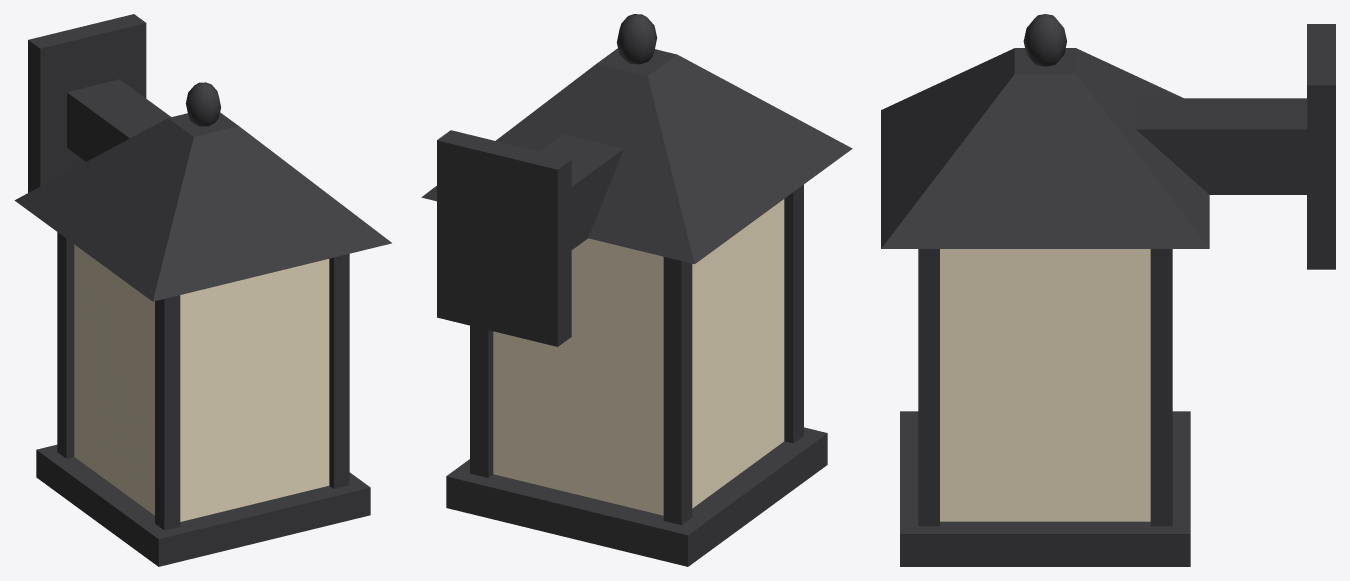
Rendered from door_lamp.glb.
3 renders of one model, left to right at view 1: azimuth 30°, elevation 25°; view 2: azimuth 150°, elevation 25°; view 3: azimuth 270°, elevation 25°, orthographic. The views are drawn at different scales.
Parts seen in each view (by area): view 1: glass, roof, base, plate, corner-1-1, bracket, corner1-1, corner-11, knob; view 2: glass, roof, plate, base, bracket, corner-11, corner-1-1, corner11, knob; view 3: glass, roof, base, bracket, plate, corner11, corner1-1, knob.
Boxes of the visible parts, <box> form: glass: <box>74,244,329,521</box>; roof: <box>14,112,391,301</box>; base: <box>36,444,370,566</box>; plate: <box>28,14,146,192</box>; corner-1-1: <box>155,295,180,530</box>; bracket: <box>67,79,171,161</box>; corner1-1: <box>329,254,349,488</box>; corner-11: <box>57,232,74,458</box>; knob: <box>185,82,221,126</box>; glass: <box>493,199,784,515</box>; roof: <box>421,48,852,264</box>; plate: <box>437,130,571,346</box>; base: <box>446,427,827,566</box>; bracket: <box>467,134,623,282</box>; corner-11: <box>663,257,692,525</box>; corner-1-1: <box>784,184,803,443</box>; corner11: <box>470,325,493,477</box>; knob: <box>616,14,656,64</box>; glass: <box>940,249,1150,521</box>; roof: <box>881,48,1209,248</box>; base: <box>900,411,1190,566</box>; bracket: <box>1135,98,1306,194</box>; plate: <box>1307,24,1335,269</box>; corner11: <box>1150,249,1172,526</box>; corner1-1: <box>918,249,939,526</box>; knob: <box>1023,14,1066,66</box>.
Size of the model in its own units: 0.2263 by 0.3725 by 0.3131.
